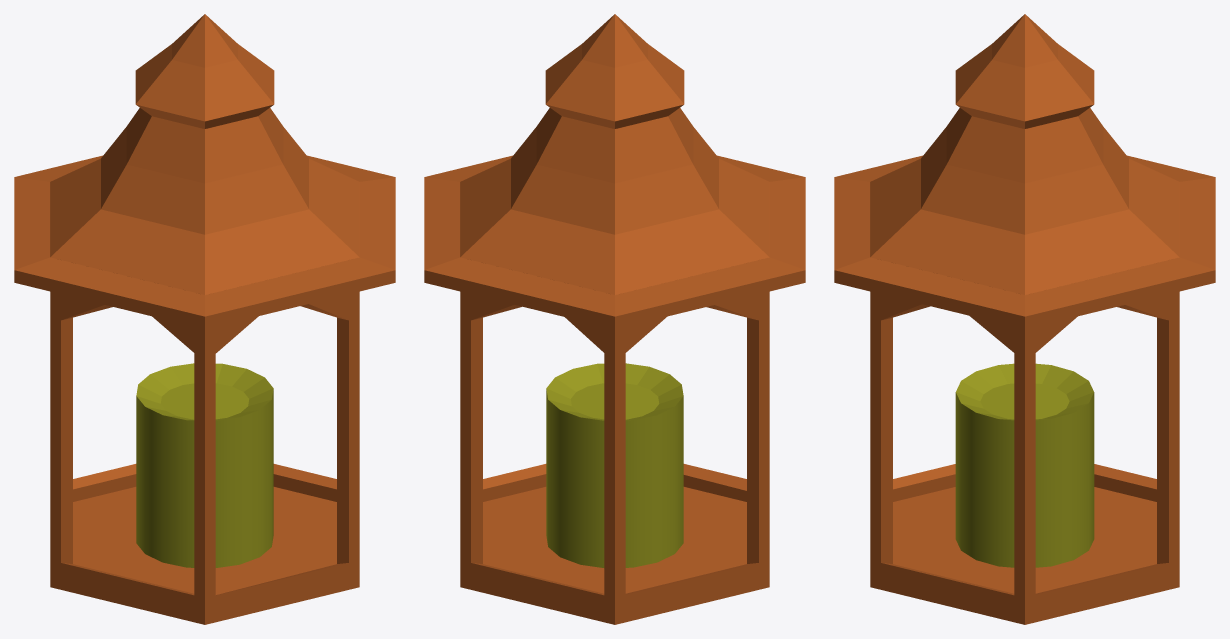
File: Lamp.fbx
3 renders of one model, left to right at view 1: azimuth 30°, elevation 25°; view 2: azimuth 150°, elevation 25°; view 3: azimuth 270°, elevation 25°, orthographic.
Parts seen in each view (by area): view 1: Lamp_Main; view 2: Lamp_Main; view 3: Lamp_Main.
Boxes of the visible parts, <box> form: Lamp_Main: <box>14,14,395,624</box>; Lamp_Main: <box>424,14,805,624</box>; Lamp_Main: <box>834,14,1215,624</box>.
Bounding box in the file's own units: 9.61 × 8.32 × 12.89.
